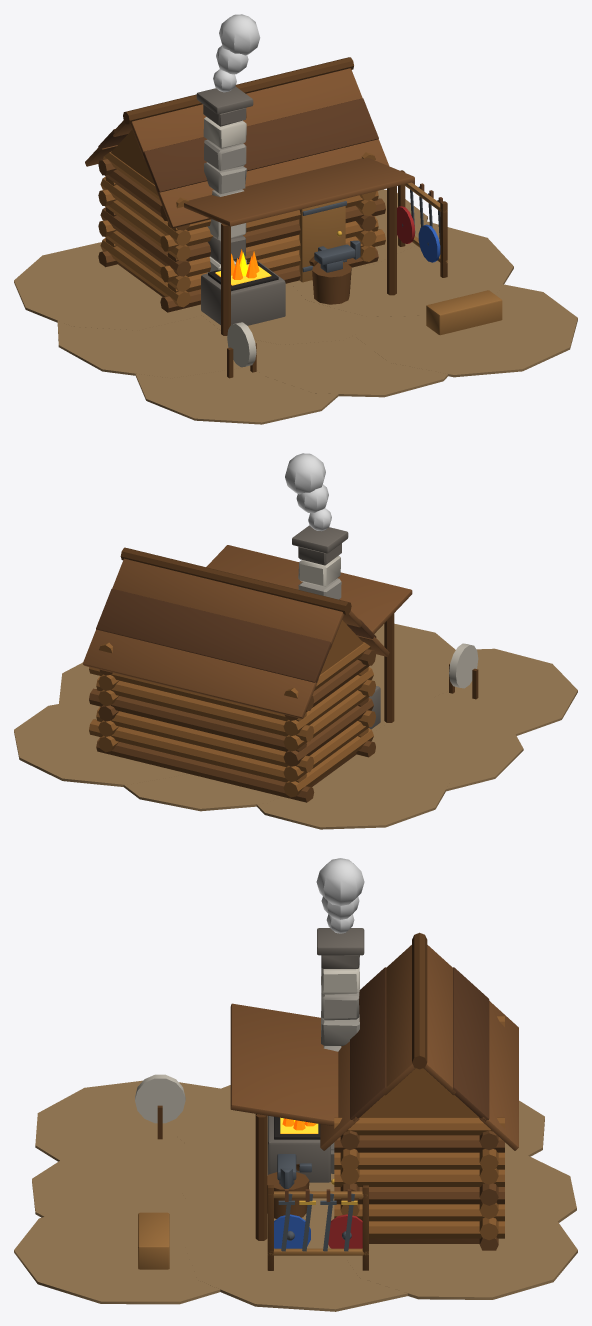
Rendered from kuznia_poz05.glb.
The picture shows the model from 3 angles, top to bottom: view 1: azimuth 30°, elevation 25°; view 2: azimuth 150°, elevation 25°; view 3: azimuth 270°, elevation 25°; orthographic projection. The views are drawn at different scales.
Parts seen in each view (by area): view 1: kuznia_poz05; view 2: kuznia_poz05; view 3: kuznia_poz05.
Part boxes in pixels (box(x1,y1,x2,y2)): kuznia_poz05: box(14, 14, 577, 424); kuznia_poz05: box(14, 453, 577, 829); kuznia_poz05: box(14, 858, 577, 1311).
Size of the model in its own units: 8.84 by 5.54 by 8.92.
